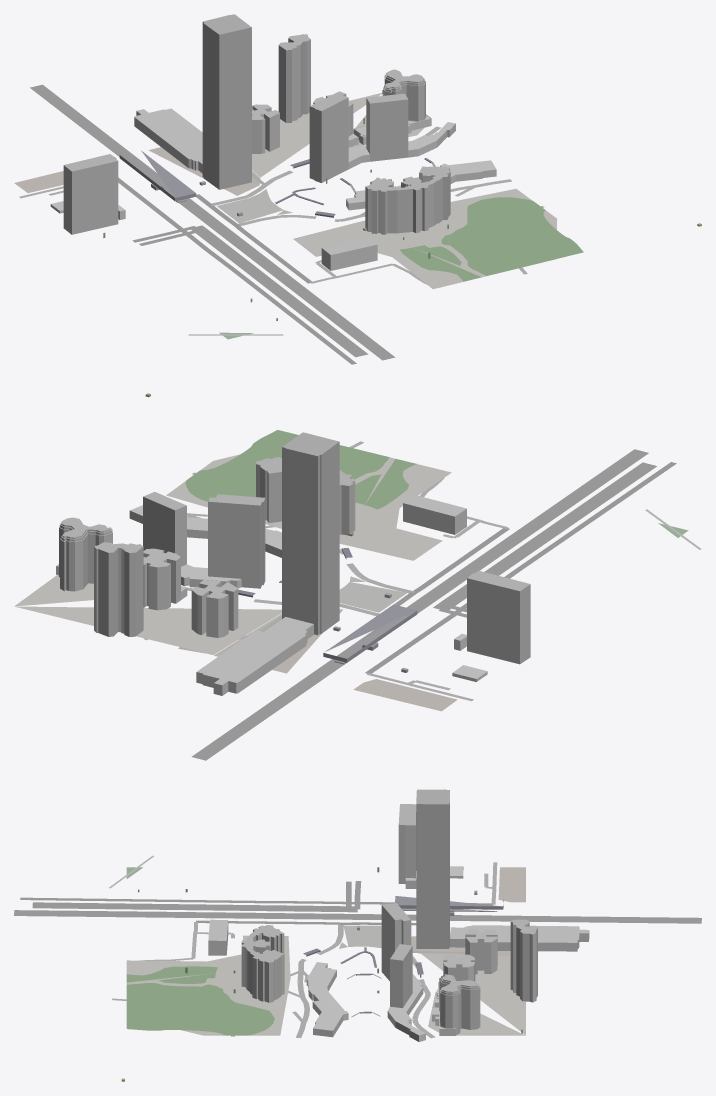
3 renders of one model, top to bottom at view 1: azimuth 30°, elevation 25°; view 2: azimuth 150°, elevation 25°; view 3: azimuth 270°, elevation 25°, orthographic. The views are drawn at different scales.
Size of the model in its own units: 670 by 201 by 862.
